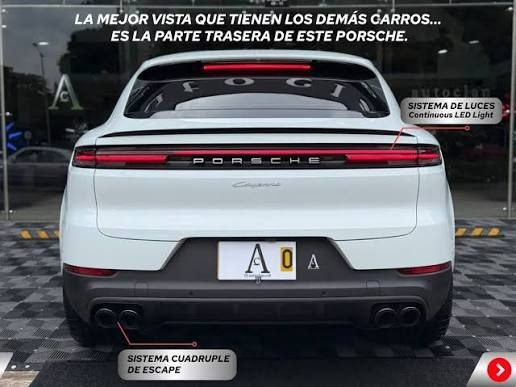car: (62, 41, 462, 367), (60, 39, 457, 367), (3, 145, 73, 195)
